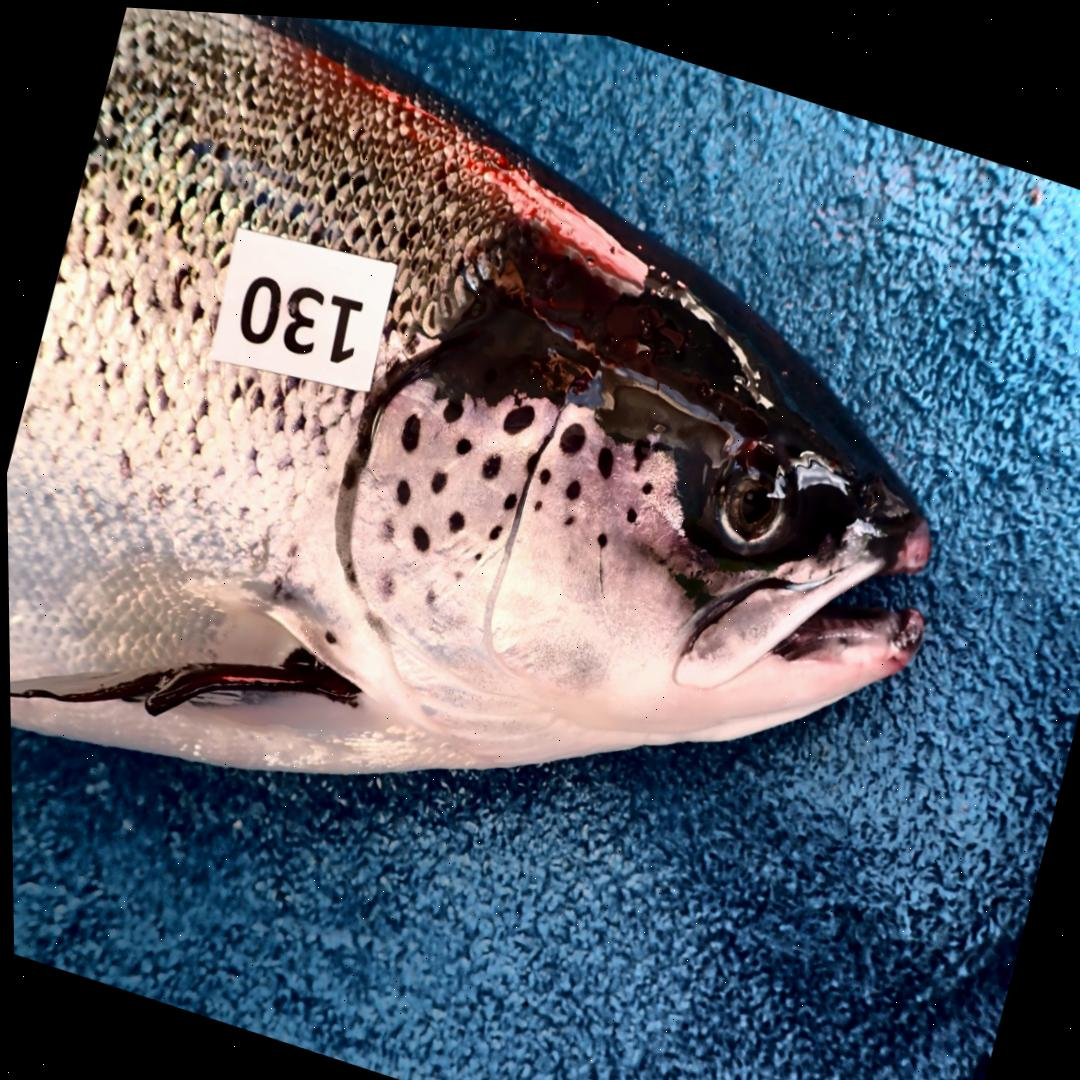spot: (501, 398, 533, 428), (558, 415, 584, 447), (399, 409, 419, 447), (631, 429, 649, 461), (595, 438, 612, 471), (479, 448, 499, 472), (409, 520, 427, 546), (441, 393, 461, 416), (376, 569, 393, 595), (393, 474, 409, 501), (377, 511, 392, 539), (340, 459, 356, 484), (428, 465, 445, 488), (446, 505, 463, 526), (563, 472, 579, 492), (453, 431, 469, 449), (423, 581, 434, 604), (501, 485, 514, 504), (486, 518, 500, 534), (537, 461, 550, 478), (624, 499, 635, 514), (595, 524, 605, 540), (640, 473, 650, 486), (451, 564, 461, 575), (531, 493, 540, 505), (563, 507, 572, 519), (474, 545, 479, 555)
